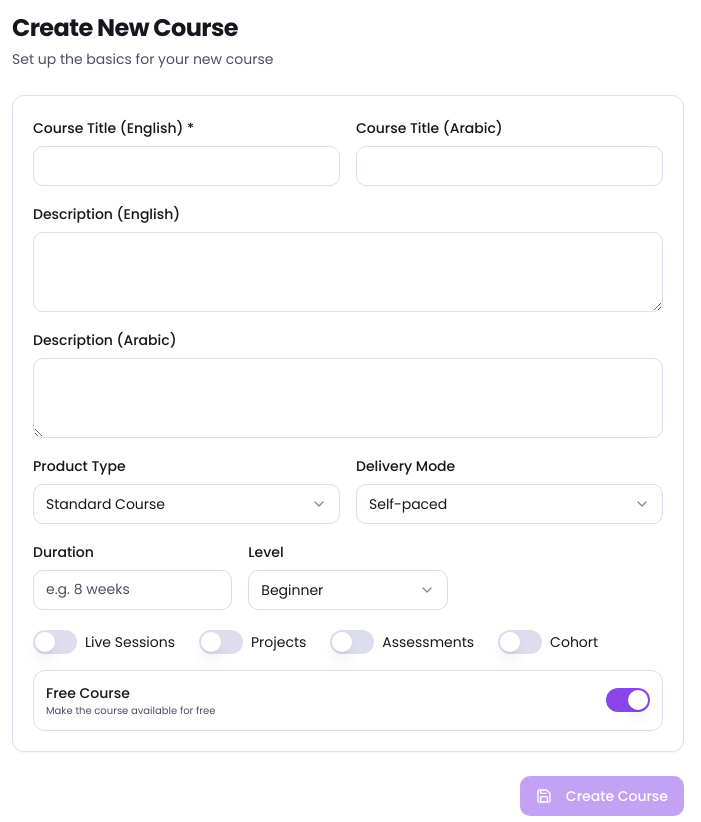
Test case: Instructor workspace create / shared settings pages › keeps create course submit disabled until english title is provided
The width and height of the screenshot is (701, 822).
Expected: the button "Create Course" is disabled, x1=520 y1=776 x2=684 y2=816
Type "New Course" into the field labelled "Course Title (English) *" at (186, 166), box x1=33 y1=146 x2=340 y2=186
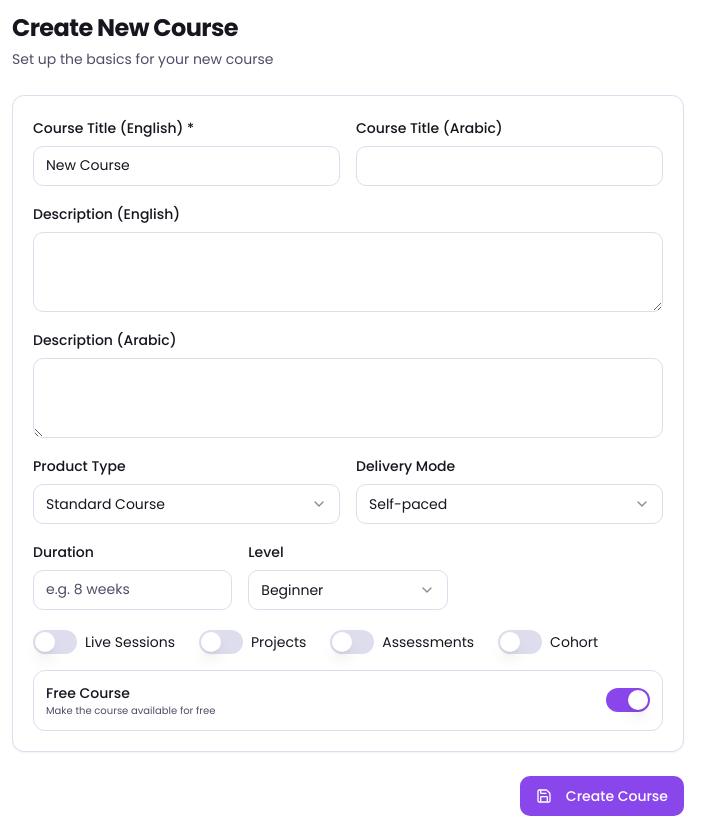
Expected: the button "Create Course" is enabled, x1=520 y1=776 x2=684 y2=816
